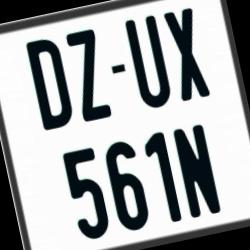1: (140, 132, 181, 228)
5: (62, 145, 115, 241)
6: (101, 140, 150, 236)
D: (26, 36, 78, 132)
N: (173, 123, 223, 218)
U: (124, 14, 176, 114)
X: (164, 8, 211, 103)
Z: (66, 28, 112, 124)
